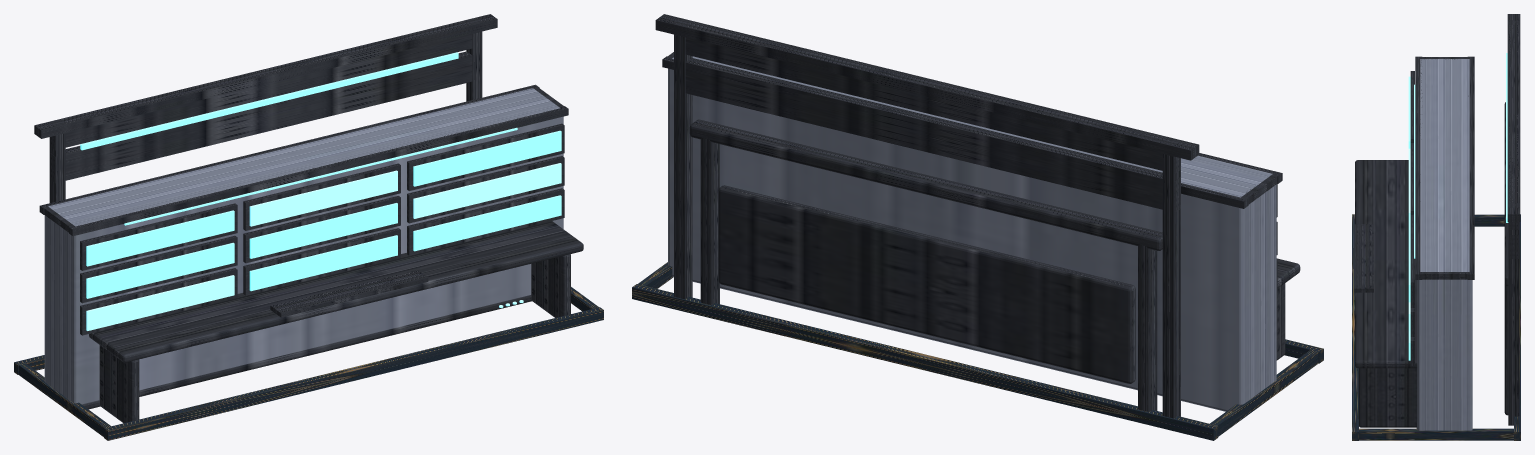
File: cam_screenwall.glb
3 renders of one model, left to right at view 1: azimuth 30°, elevation 25°; view 2: azimuth 150°, elevation 25°; view 3: azimuth 270°, elevation 25°, orthographic. The views are drawn at different scales.
Parts seen in each view (by area): view 1: frame, sight_shell, desk, shelltoe0, shellrim0, scr1_2, scr1_0, scr2_0, scr0_2, scr2_2, scr0_1, scr1_1 (+19 smaller); view 2: frame, sight_shell, depthpanel, shelltoe2, depthbeam, depthpost0, depthpost2, shelltoes0, shellrim2, ped0; view 3: frame, desk, sight_shell, ped2, shelltoes2, kbd, shellrim0, shellrim2, shelltoe0, depthpost2, shelltoe2, depthbeam (+10 smaller).
Part boxes in pixels (x1,y1,x2,y2): frame: (44,88,563,404); sight_shell: (34,14,497,202); desk: (89,221,583,362); shelltoe0: (104,307,603,440); shellrim0: (69,106,568,235); scr1_2: (413,163,561,218); scr1_0: (86,242,234,298); scr2_0: (86,210,234,266); scr0_2: (413,195,561,251); scr2_2: (413,130,561,186); scr0_1: (249,235,397,291); scr1_1: (249,203,397,258); frame: (668,56,1276,411); sight_shell: (655,14,1199,418); depthpanel: (718,185,1135,383); shelltoe2: (632,284,1218,440); depthbeam: (689,119,1162,250); depthpost0: (1138,230,1157,411); depthpost2: (700,133,719,304); shelltoes0: (1208,349,1318,436); shellrim2: (662,56,1248,208); ped0: (1276,283,1285,360); frame: (1417,59,1472,430); desk: (1355,160,1417,368); sight_shell: (1507,14,1520,425); ped2: (1358,368,1417,427); shelltoes2: (1357,428,1515,440); kbd: (1354,224,1373,292); shellrim0: (1415,56,1422,279); shellrim2: (1467,56,1474,279); shelltoe0: (1352,214,1358,440); depthpost2: (1504,269,1508,415); shelltoe2: (1514,214,1520,440); depthbeam: (1504,102,1508,286).
Bounding box in the file's own units: 3.64 × 1.7 × 1.19.
6 materials, 4 textured.
